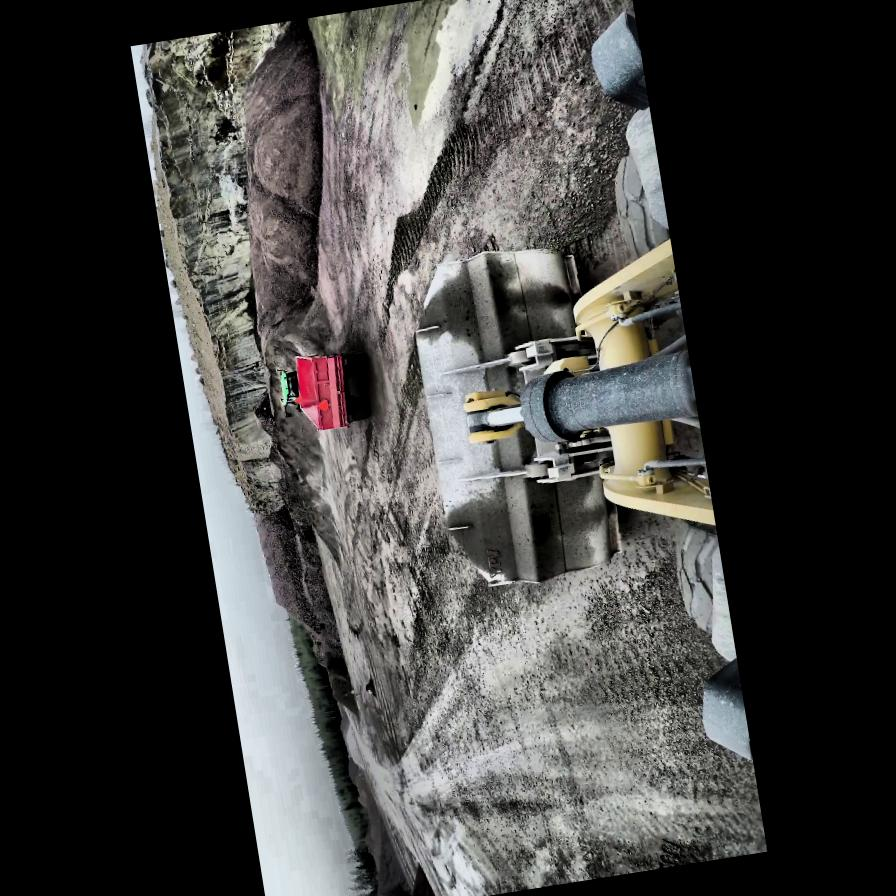anchor: (460, 386, 525, 443)
pile of gravel: (207, 16, 362, 351), (250, 319, 364, 537), (288, 526, 337, 644), (358, 798, 415, 896), (320, 642, 358, 724), (352, 776, 388, 862), (404, 860, 447, 896), (338, 712, 362, 770), (360, 819, 380, 857), (350, 767, 368, 805), (344, 753, 362, 787), (356, 792, 366, 808)
